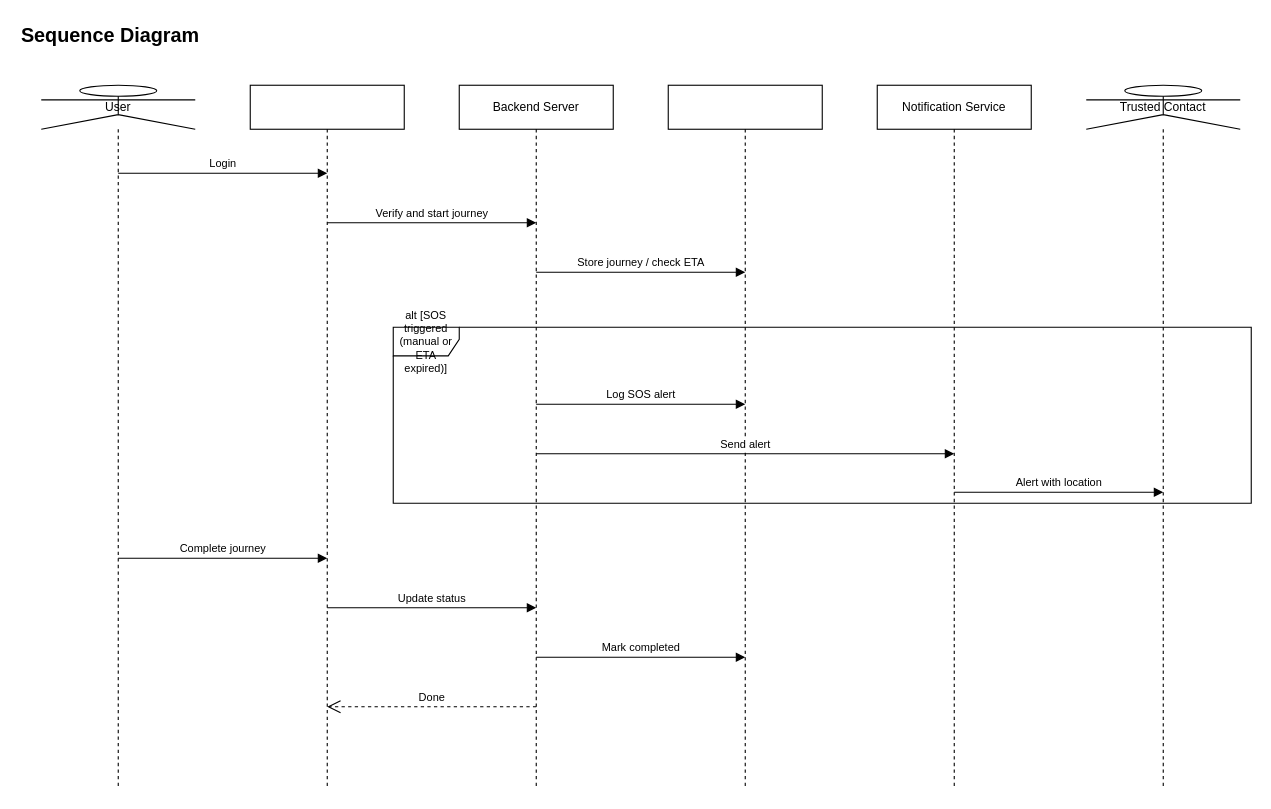
Some shapes in this 1271 by 809 pixel diagram are drawn without their labels. Each missing label, with the box of its shape:
Database: (667, 84, 822, 789)
Web App: (249, 84, 404, 789)
